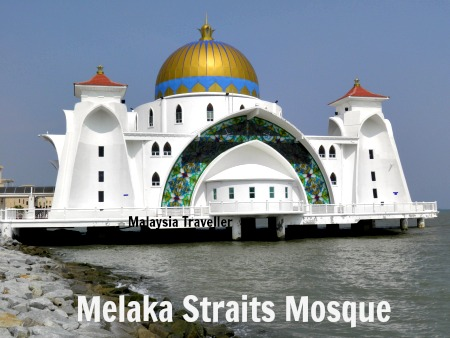Mosque: (44, 13, 430, 224)
